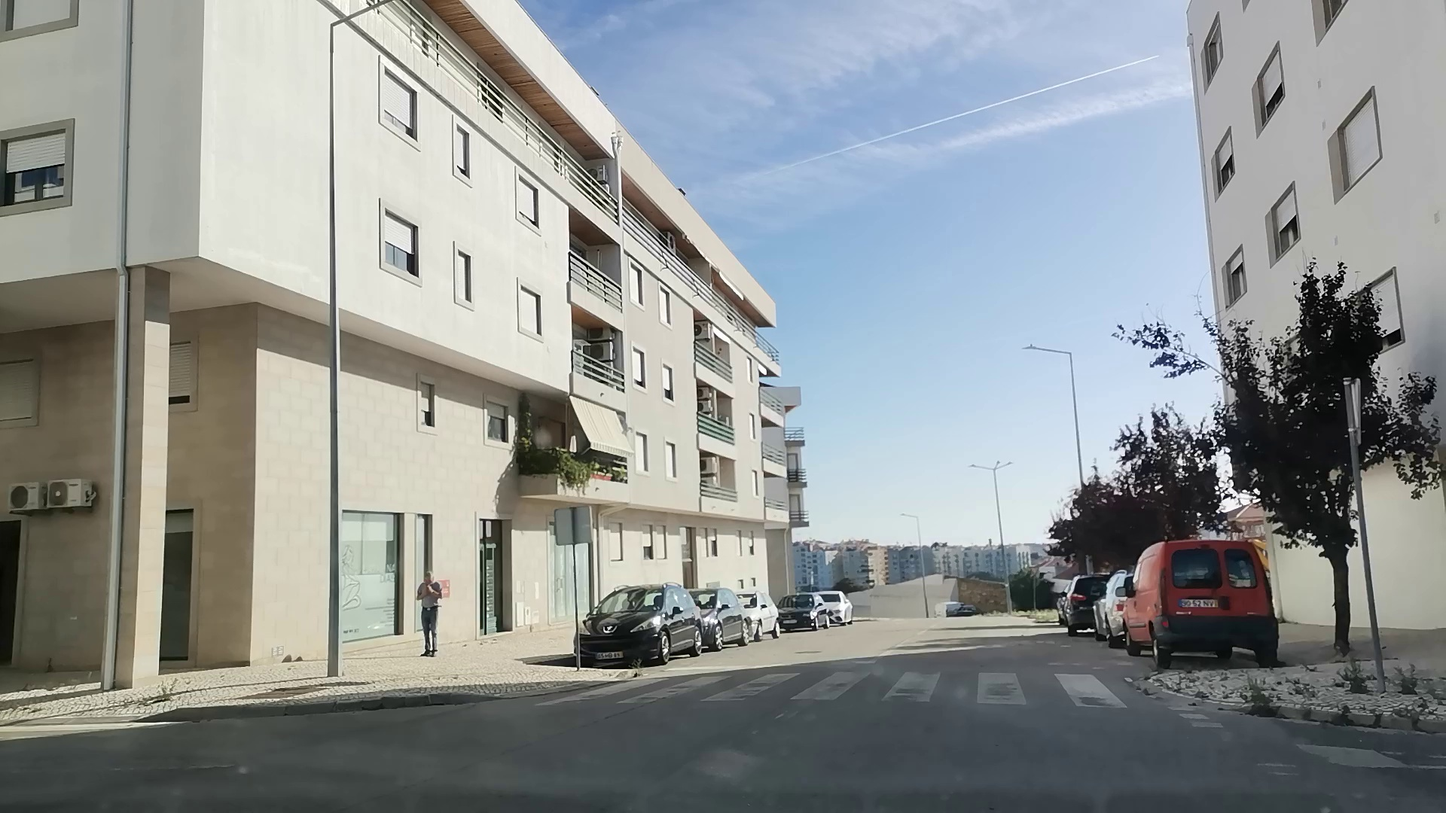Stairs: (535, 670, 1132, 711)
